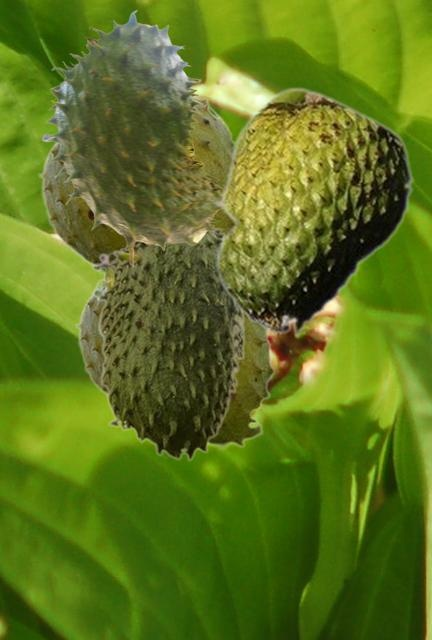guyabano: (212, 86, 413, 337), (42, 10, 222, 266), (92, 224, 246, 460), (74, 277, 275, 451), (37, 95, 233, 273)
